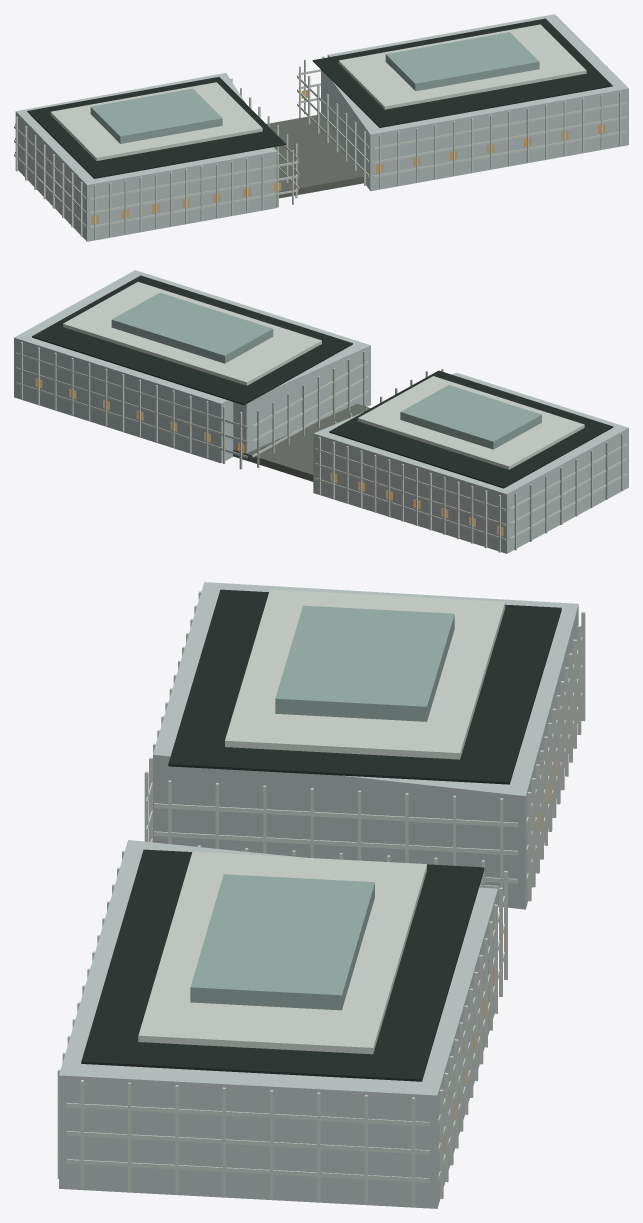
The model's file is coastal-city.glb.
3 views of the same model, one above another, from view 1: azimuth 30°, elevation 25°; view 2: azimuth 150°, elevation 25°; view 3: azimuth 270°, elevation 25° (orthographic). The views are drawn at different scales.
Parts seen in each view (by area): view 1: envelope, roof_deck, crown_box, crown_box.001, fins, floor_bands, podium_link, night_windows; view 2: envelope, roof_deck, crown_box, crown_box.001, fins, floor_bands, podium_link, night_windows; view 3: envelope, roof_deck, crown_box, crown_box.001, fins, floor_bands.
Part boxes in pixels (x1,y1,x2,y2): envelope: [15, 14, 628, 241]; roof_deck: [27, 18, 612, 178]; crown_box: [50, 24, 586, 160]; crown_box.001: [90, 32, 539, 143]; fins: [15, 29, 626, 239]; floor_bands: [14, 69, 626, 228]; podium_link: [266, 114, 363, 198]; night_windows: [91, 89, 605, 224]; envelope: [14, 270, 628, 553]; roof_deck: [32, 275, 613, 488]; crown_box: [63, 282, 584, 469]; crown_box.001: [111, 292, 541, 449]; fins: [20, 342, 623, 552]; floor_bands: [16, 352, 626, 540]; podium_link: [233, 404, 370, 481]; night_windows: [35, 378, 503, 536]; envelope: [59, 582, 578, 1208]; roof_deck: [81, 589, 561, 1081]; crown_box: [138, 589, 505, 1054]; crown_box.001: [190, 605, 454, 1010]; fins: [57, 591, 585, 1206]; floor_bands: [58, 637, 582, 1182].
Bounding box in the file's own units: 241 × 32 × 105.
